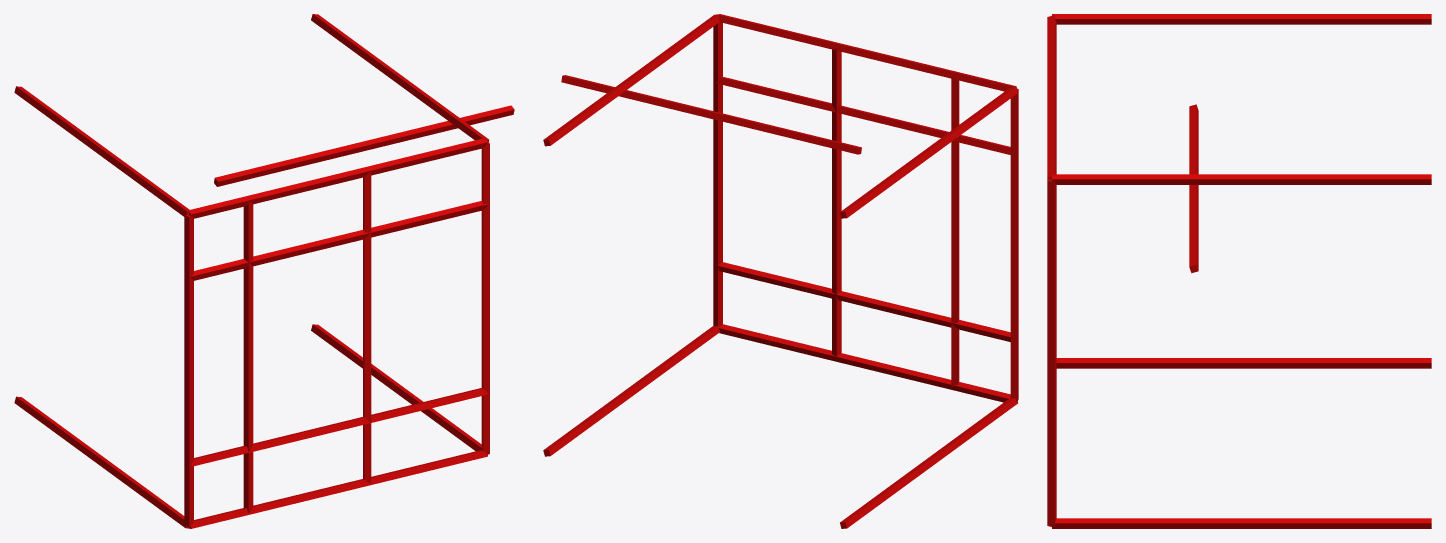
The model's file is debug_mesh.obj.
The picture shows the model from 3 angles, left to right: view 1: azimuth 30°, elevation 25°; view 2: azimuth 150°, elevation 25°; view 3: azimuth 270°, elevation 25°; orthographic projection. The views are drawn at different scales.
Visible parts, largest first — view 1: element_11, element_6, element_7, grasp_element, element_10, element_9, element_5, element_4, element_8, element_1, element_0, element_2 (+1 smaller); view 2: element_8, element_4, element_5, element_9, element_7, element_6, element_11, grasp_element, element_10, element_1, element_2, element_0 (+1 smaller); view 3: element_2, element_3, element_1, element_0, element_5, element_6, grasp_element.
Boxes of the visible parts, left/top/right/bottom form: element_11: left=243, top=202, right=253, bottom=512; element_6: left=188, top=138, right=487, bottom=218; element_7: left=184, top=215, right=193, bottom=527; grasp_element: left=214, top=105, right=514, bottom=186; element_10: left=191, top=201, right=487, bottom=280; element_9: left=363, top=172, right=371, bottom=483; element_5: left=481, top=142, right=489, bottom=454; element_4: left=189, top=450, right=487, bottom=528; element_8: left=191, top=388, right=487, bottom=466; element_1: left=14, top=86, right=189, bottom=217; element_0: left=14, top=396, right=189, bottom=528; element_2: left=311, top=14, right=489, bottom=141; element_8: left=716, top=262, right=1012, bottom=341; element_4: left=718, top=324, right=1010, bottom=402; element_5: left=713, top=22, right=722, bottom=326; element_9: left=832, top=48, right=841, bottom=358; element_7: left=1010, top=88, right=1018, bottom=401; element_6: left=717, top=14, right=1016, bottom=91; element_11: left=951, top=76, right=959, bottom=386; grasp_element: left=561, top=75, right=861, bottom=154; element_10: left=716, top=77, right=1012, bottom=155; element_1: left=840, top=86, right=1018, bottom=218; element_2: left=543, top=14, right=719, bottom=146; element_0: left=840, top=398, right=1017, bottom=528; element_2: left=1052, top=174, right=1431, bottom=184; element_3: left=1052, top=518, right=1431, bottom=528; element_1: left=1052, top=14, right=1431, bottom=24; element_0: left=1056, top=358, right=1431, bottom=368; element_5: left=1047, top=179, right=1056, bottom=525; element_6: left=1047, top=15, right=1056, bottom=179; grasp_element: left=1189, top=104, right=1198, bottom=273.
Size of the model in its own units: 1.32 by 1.02 by 1.01.
